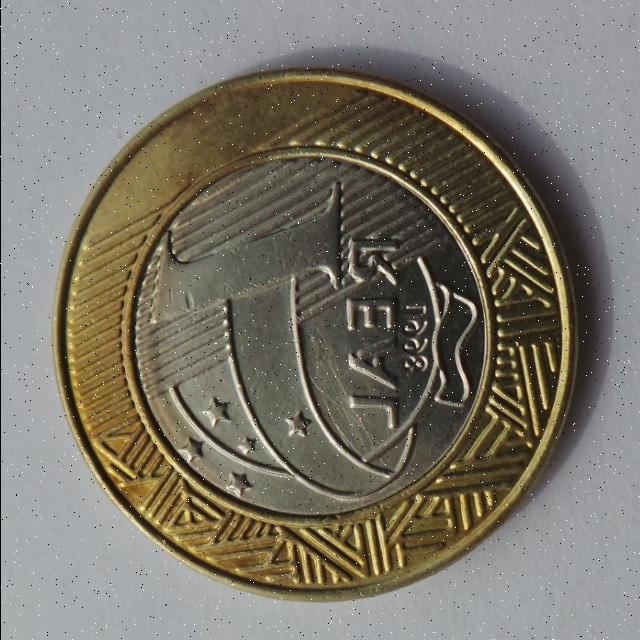1 real: (51, 76, 585, 588)
